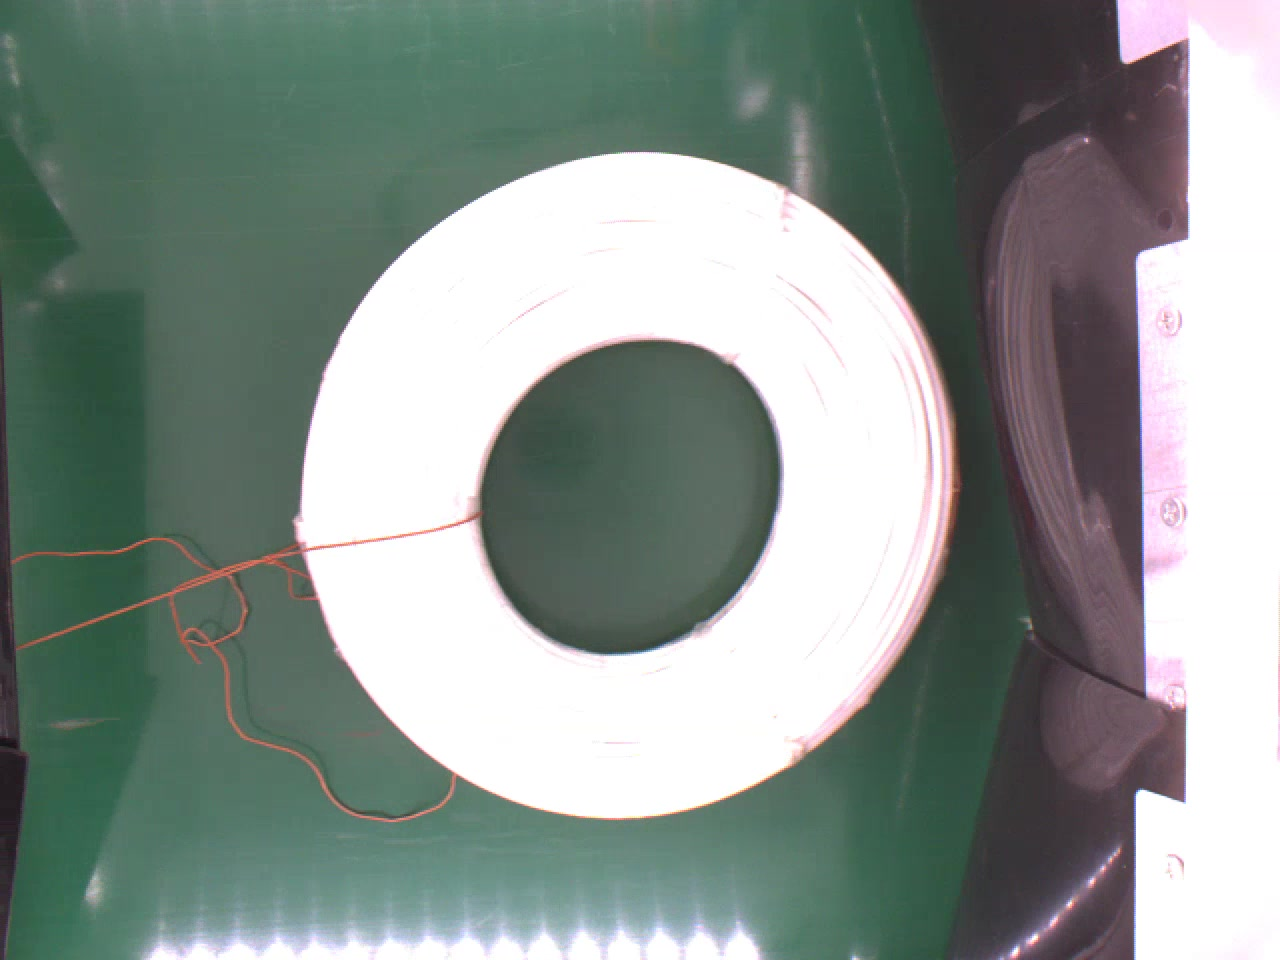white: (285, 140, 969, 822)
